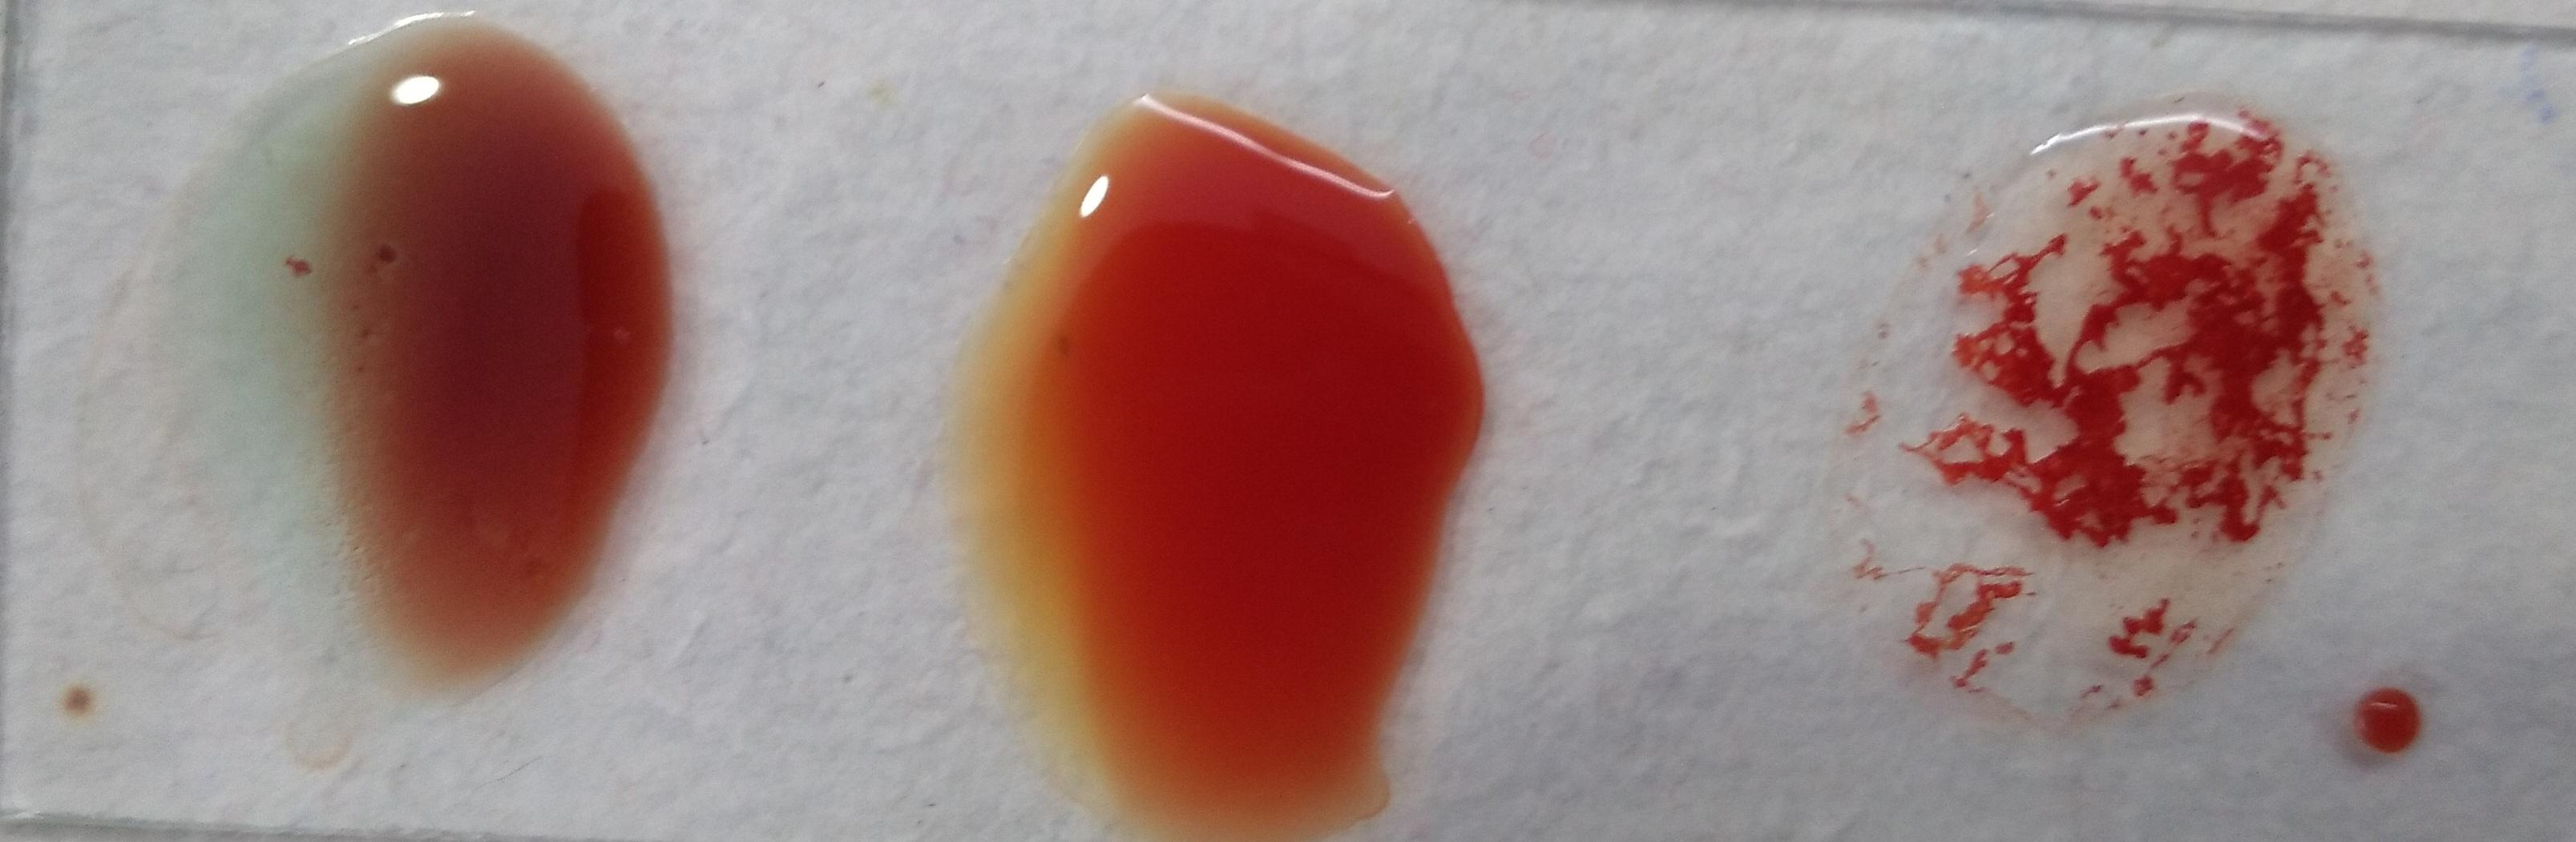D: (1842, 110, 2379, 732)
